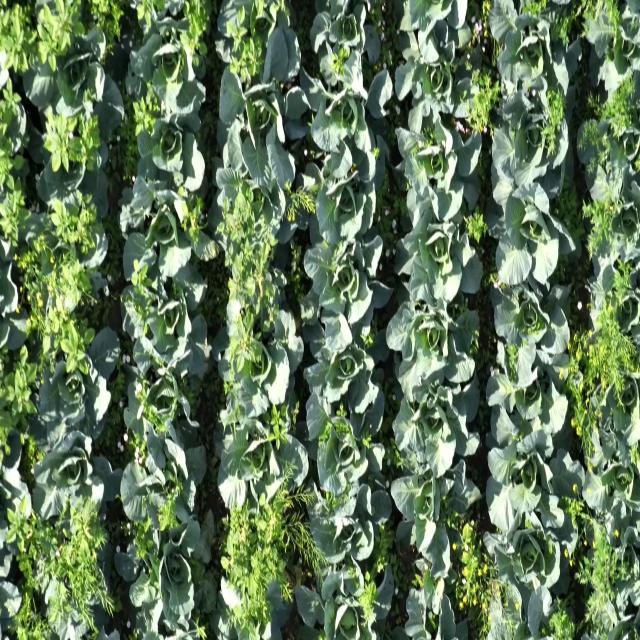holes: (302, 318, 387, 448), (122, 17, 210, 138), (292, 558, 399, 640), (308, 0, 389, 71)
